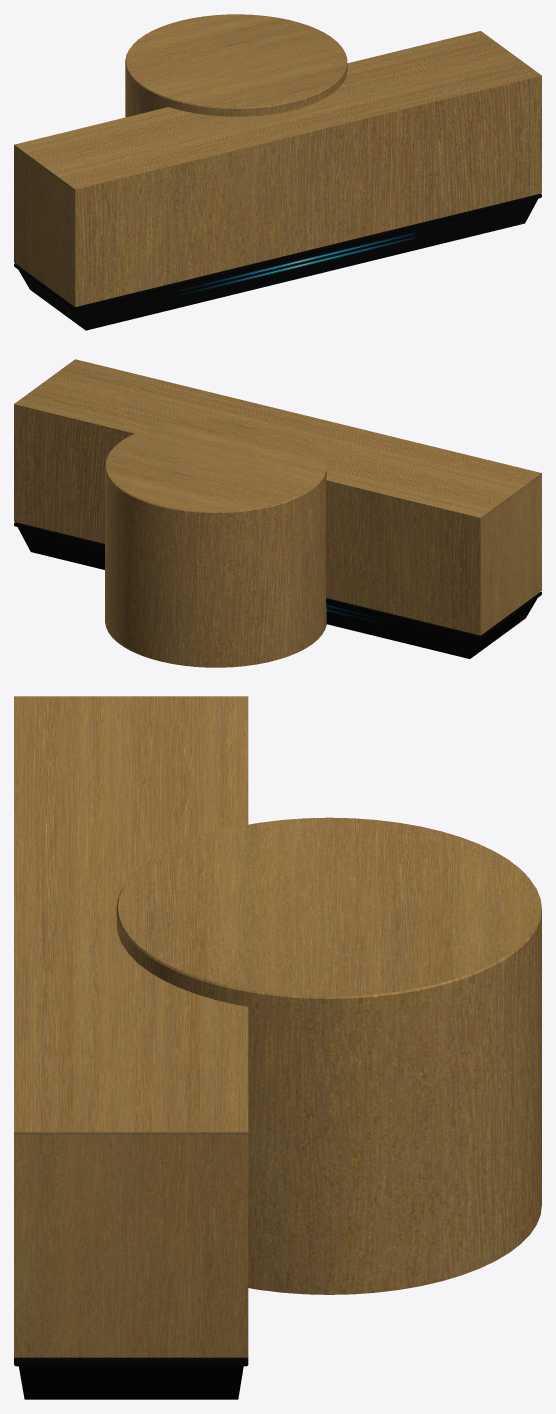
Rendered from Block-Display-round-FTUE.fbx.
3 views of the same model, one above another, from view 1: azimuth 30°, elevation 25°; view 2: azimuth 150°, elevation 25°; view 3: azimuth 270°, elevation 25° (orthographic). The views are drawn at different scales.
Visible parts, largest first — view 1: Mesh4 Group_19 Model, Cylinder; view 2: Mesh4 Group_19 Model, Cylinder; view 3: Cylinder, Mesh4 Group_19 Model.
Part boxes in pixels (x1,y1,x2,y2): Mesh4 Group_19 Model: (14, 31, 541, 330); Cylinder: (125, 14, 347, 117); Mesh4 Group_19 Model: (14, 359, 541, 658); Cylinder: (105, 418, 326, 667); Cylinder: (116, 817, 541, 1294); Mesh4 Group_19 Model: (14, 696, 248, 1399).
Size of the model in its own units: 220 by 70.11 by 113.
Materials: 2 (2 with a texture image).
